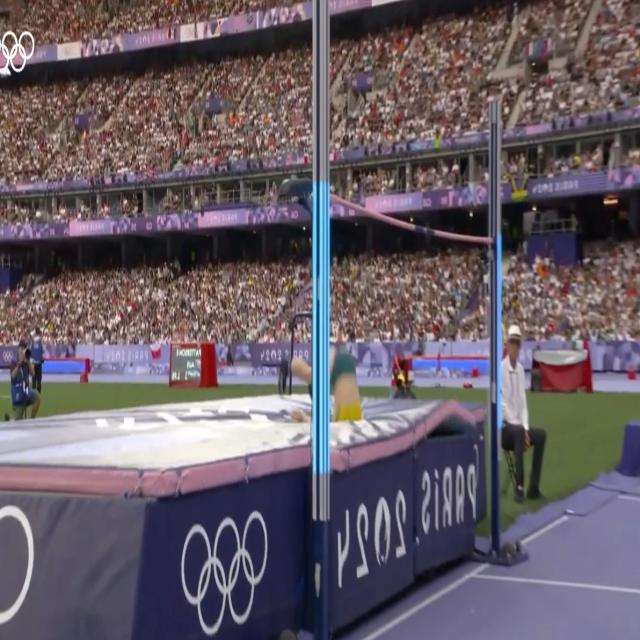land: (281, 324, 369, 431)
